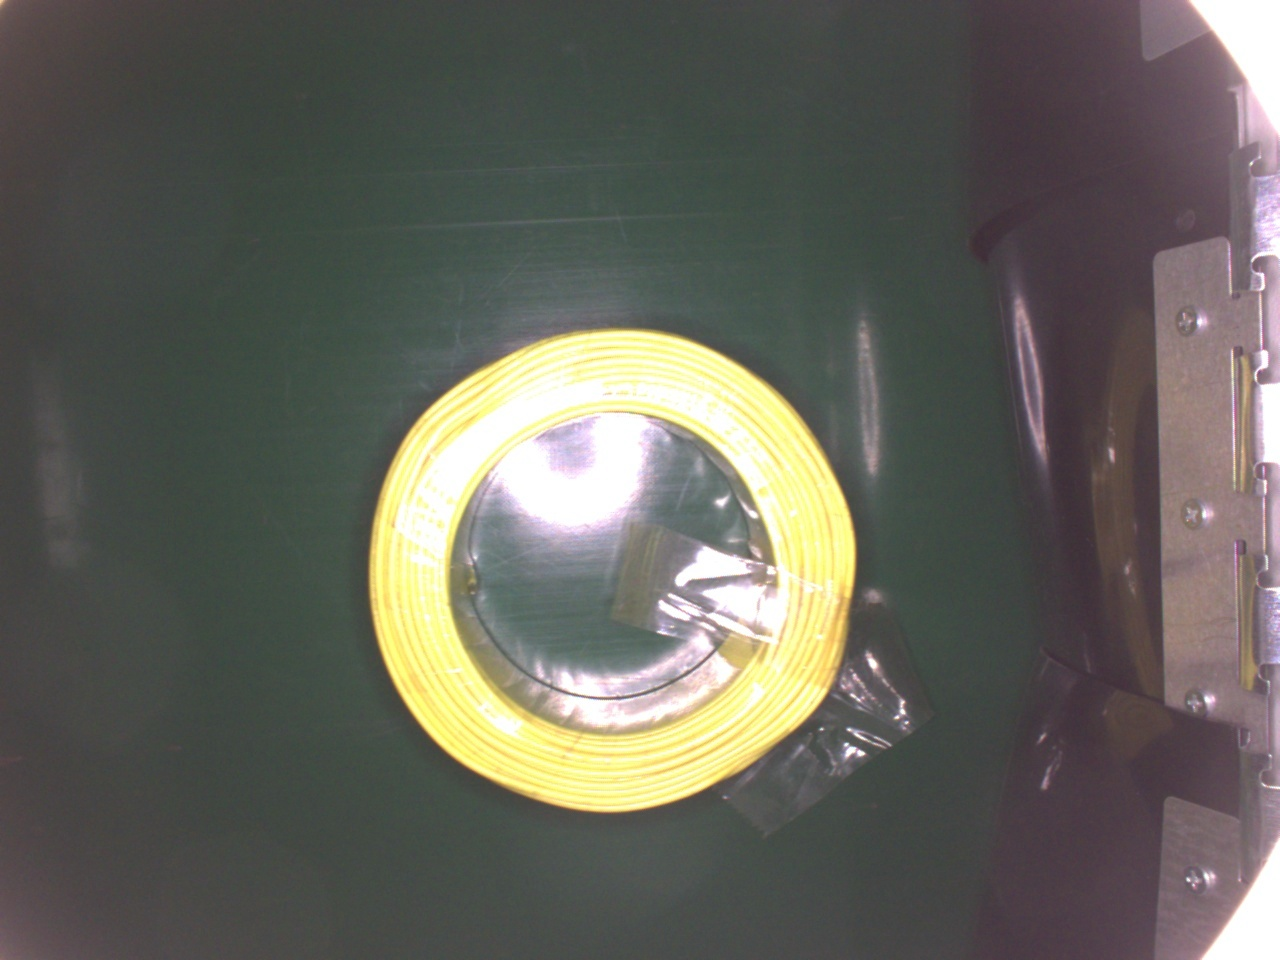yellow: (363, 319, 858, 809)
